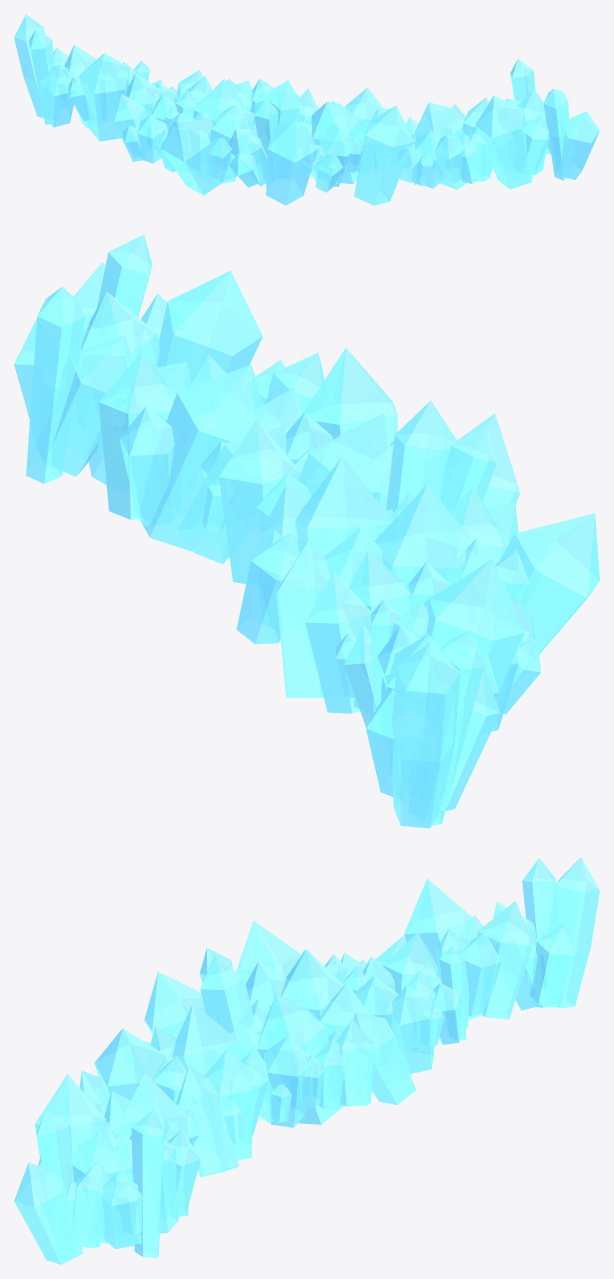
Rendered from Kristalle_6.fbx.
3 renders of one model, top to bottom at view 1: azimuth 30°, elevation 25°; view 2: azimuth 150°, elevation 25°; view 3: azimuth 270°, elevation 25°, orthographic. The views are drawn at different scales.
Parts seen in each view (by area): view 1: Steinkliff.009; view 2: Steinkliff.009; view 3: Steinkliff.009.
Part boxes in pixels (x1,y1,x2,y2): Steinkliff.009: (14,14,599,205); Steinkliff.009: (14,234,599,828); Steinkliff.009: (14,857,599,1264).
Size of the model in its own units: 412 by 128 by 383.
